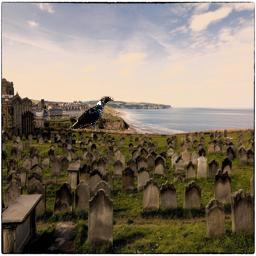Crow: (69, 96, 114, 132)
